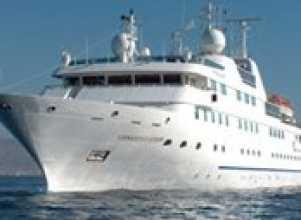youlun: (9, 3, 301, 188)
